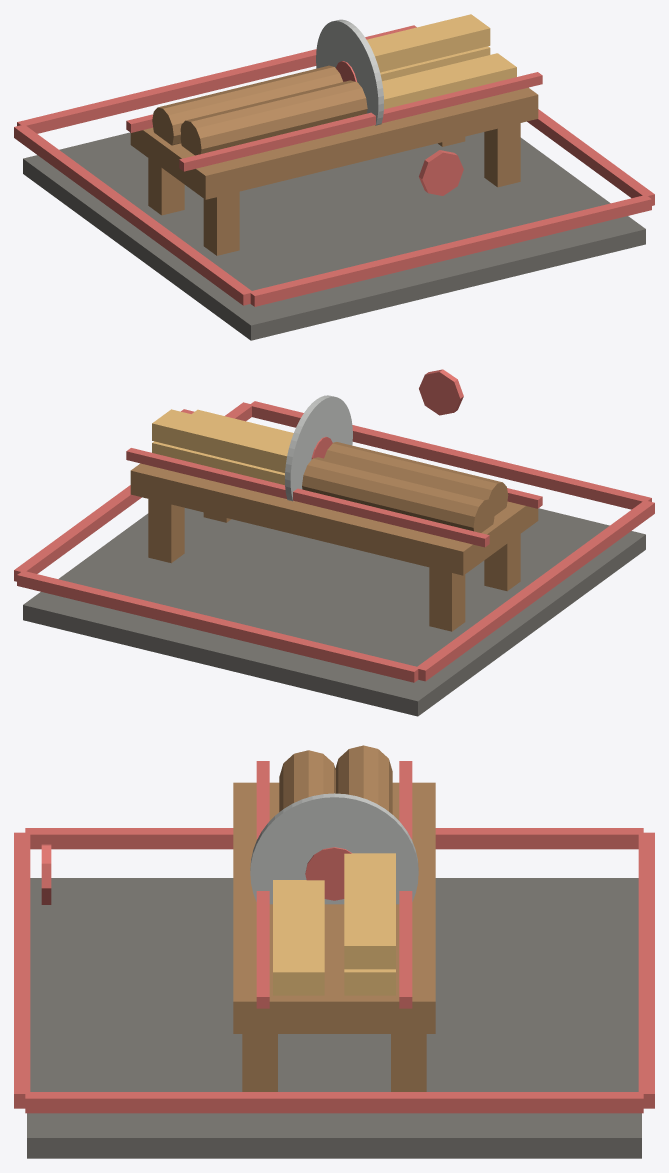
The model's file is t5_sawmill.glb.
3 renders of one model, top to bottom at view 1: azimuth 30°, elevation 25°; view 2: azimuth 150°, elevation 25°; view 3: azimuth 270°, elevation 25°, orthographic. The views are drawn at different scales.
Visible parts, largest first — view 1: FootprintBase, TableTop, TierFrontTrim, InputLogA, TierBackTrim, TierLeftTrim, LeftRail, InputLogB, OutputPlank.001, OutputPlank.002, SawBlade, TierRightTrim (+5 smaller); view 2: FootprintBase, TableTop, TierBackTrim, InputLogB, TierFrontTrim, TierLeftTrim, RightRail, OutputPlank.001, InputLogA, SawBlade, TierRightTrim, TableLeg.001 (+6 smaller); view 3: FootprintBase, TableTop, TierRightTrim, SawBlade, TierLeftTrim, OutputPlank.001, OutputPlank.002, TierBackTrim, TierFrontTrim, InputLogB, LeftRail, RightRail (+6 smaller).
Part boxes in pixels (x1,y1,x2,y2): FootprintBase: (23,132,645,340); TableTop: (130,87,538,199); TierFrontTrim: (249,195,651,306); InputLogA: (180,80,367,155); TierBackTrim: (17,25,416,133); TierLeftTrim: (14,124,253,305); LeftRail: (179,72,542,171); InputLogB: (152,65,343,145); OutputPlank.001: (367,14,490,72); OutputPlank.002: (382,53,516,109); SawBlade: (316,19,383,125); TierRightTrim: (527,109,654,205); FootprintBase: (23,508,645,716); TableTop: (130,463,538,575); TierBackTrim: (17,571,419,682); InputLogB: (302,457,494,532); TierFrontTrim: (249,401,651,509); TierLeftTrim: (417,501,654,681); RightRail: (126,448,489,547); OutputPlank.001: (152,409,291,472); InputLogA: (324,442,508,515); SawBlade: (285,395,352,501); TierRightTrim: (14,402,252,581); TableLeg.001: (429,567,465,631); FootprintBase: (27,878,641,1158); TableTop: (233,782,435,1033); TierRightTrim: (25,1092,643,1113); SawBlade: (250,793,418,904); TierLeftTrim: (25,828,643,849); OutputPlank.001: (344,853,395,969); OutputPlank.002: (273,880,324,995); TierBackTrim: (638,832,654,1108); TierFrontTrim: (14,832,30,1108); InputLogB: (335,745,392,814); LeftRail: (256,761,269,1008); RightRail: (399,761,412,1008).
Size of the model in its own units: 3.96 by 1.66 by 3.96.
